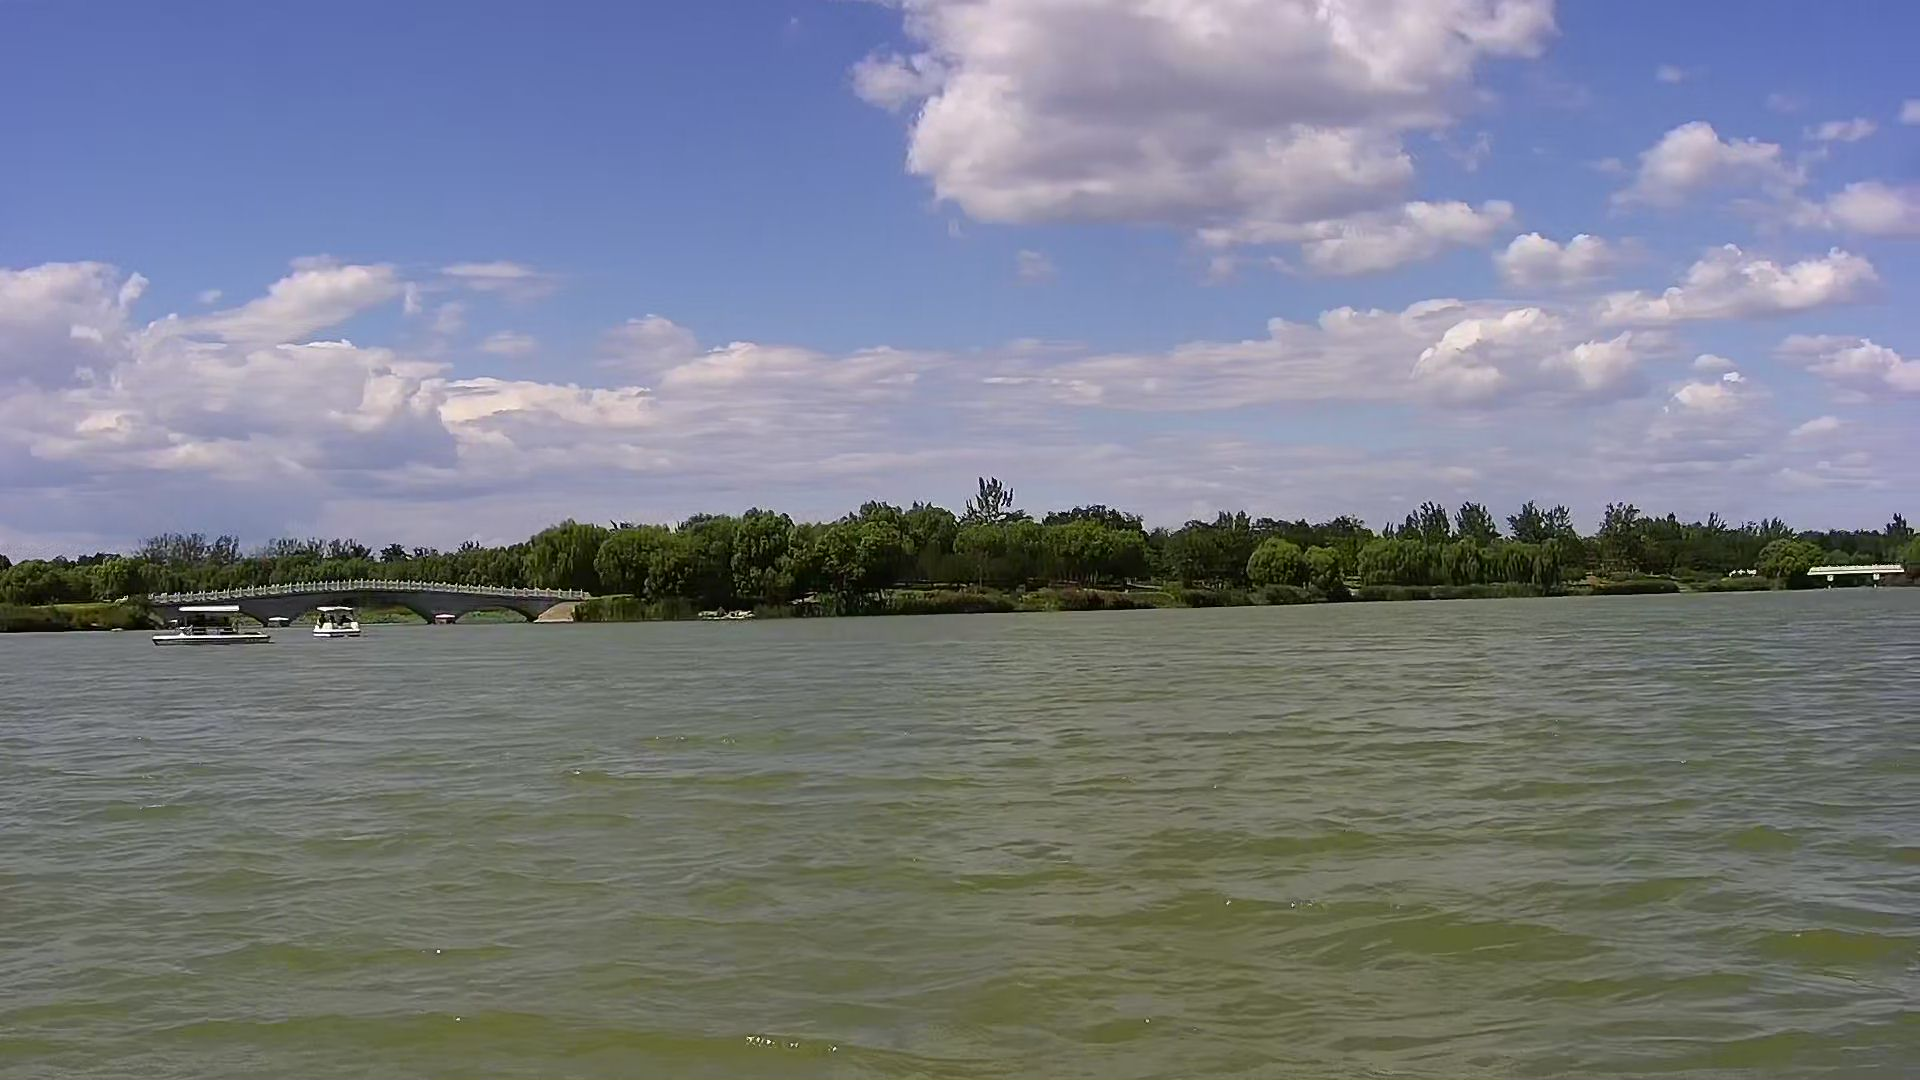boat: (153, 609, 265, 640), (313, 600, 364, 644)
bridge: (154, 571, 592, 630), (1799, 559, 1905, 591)
